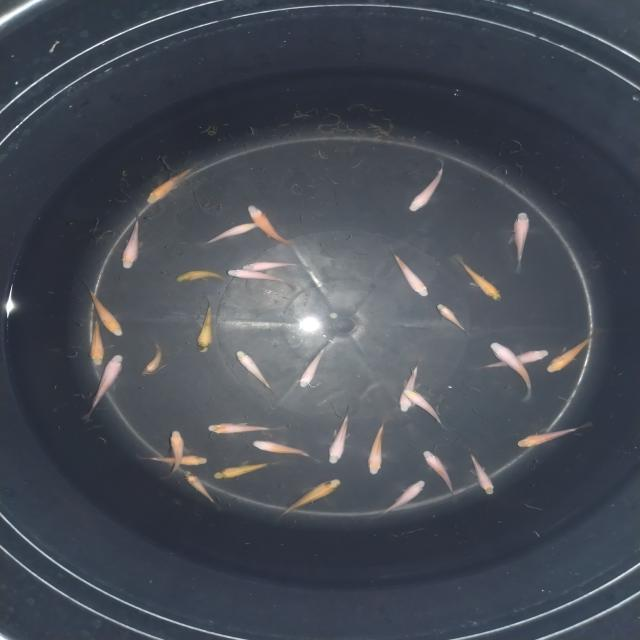nila: (78, 351, 136, 419), (487, 338, 538, 402), (275, 476, 343, 522), (78, 279, 130, 339), (538, 332, 604, 376), (228, 348, 284, 398), (452, 253, 504, 306), (246, 204, 305, 248), (500, 211, 538, 276), (404, 157, 446, 215), (143, 163, 198, 207), (388, 246, 432, 300), (375, 476, 431, 518), (400, 386, 450, 432), (516, 422, 590, 452), (387, 356, 423, 415), (472, 346, 552, 372), (294, 341, 332, 392), (464, 446, 500, 498), (224, 268, 296, 294), (115, 214, 146, 274), (323, 403, 352, 466), (364, 420, 396, 476), (421, 450, 458, 498), (182, 470, 225, 510), (192, 296, 220, 356), (250, 439, 322, 462), (204, 220, 264, 247), (210, 459, 278, 482), (162, 424, 187, 480), (205, 421, 287, 438), (135, 452, 212, 470), (83, 316, 109, 366), (169, 270, 238, 288), (140, 333, 166, 377), (438, 304, 470, 334), (238, 260, 306, 274)
